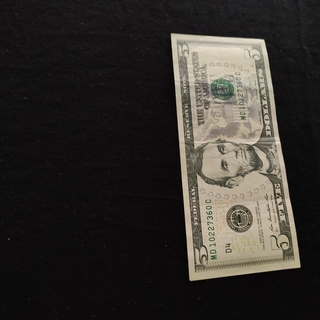5USDFront: (170, 32, 301, 282)
